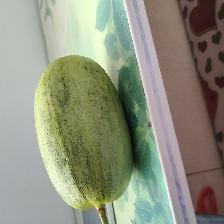gua: (37, 52, 131, 205)
